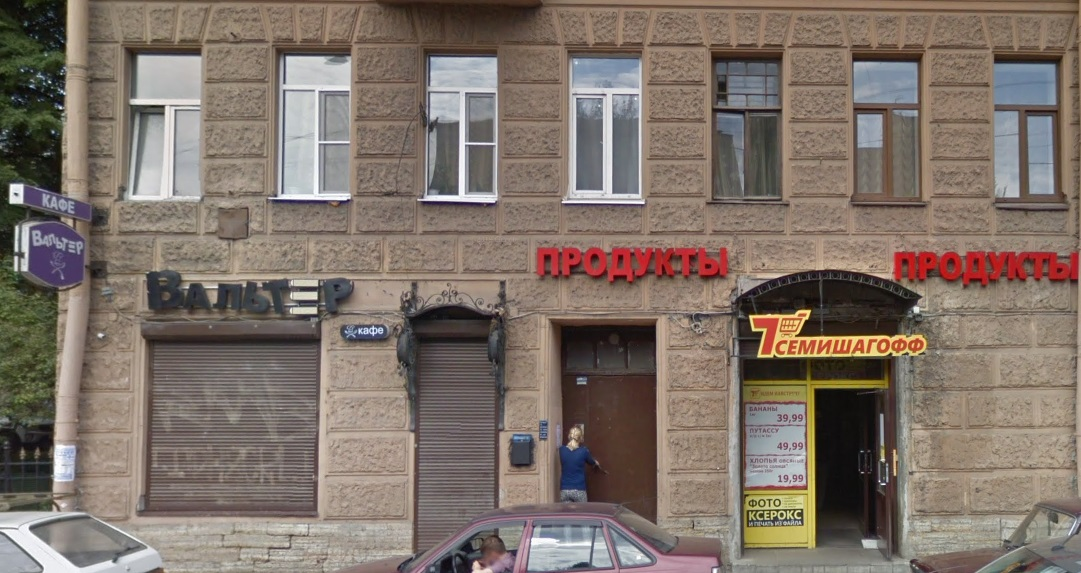cantilever: (8, 182, 100, 290)
door: (810, 383, 900, 560)
signboard: (139, 266, 354, 321), (741, 309, 932, 358), (534, 239, 730, 281), (890, 248, 1081, 284)
window: (141, 325, 317, 512), (276, 54, 353, 206), (127, 51, 203, 200), (424, 53, 499, 199), (565, 50, 641, 194), (712, 51, 780, 201), (853, 58, 921, 200), (994, 56, 1057, 203)
